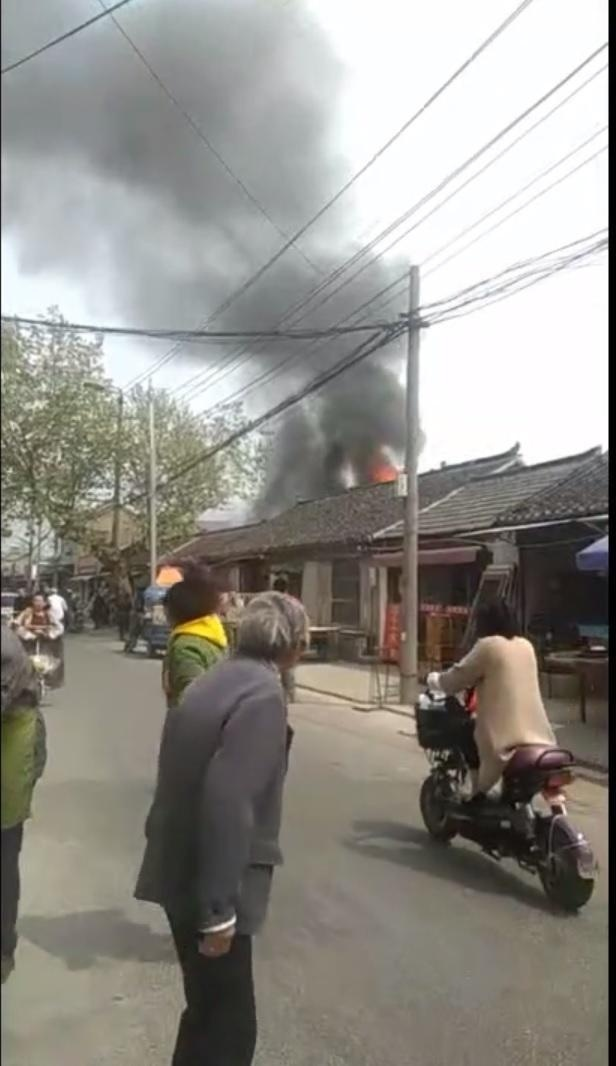fire: (153, 561, 184, 587)
